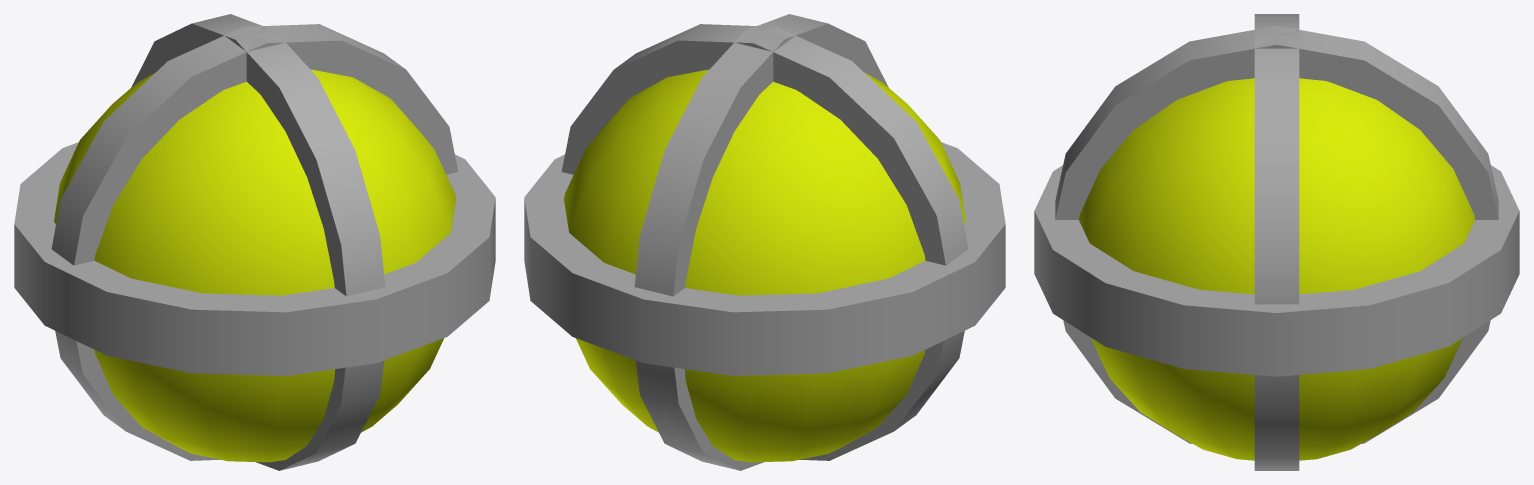
Rendered from SM_WarningLamp.fbx.
The picture shows the model from 3 angles, left to right: view 1: azimuth 30°, elevation 25°; view 2: azimuth 150°, elevation 25°; view 3: azimuth 270°, elevation 25°; orthographic projection.
Parts seen in each view (by area): view 1: SM_WarningLamp; view 2: SM_WarningLamp; view 3: SM_WarningLamp.
Boxes of the visible parts, <box> form: SM_WarningLamp: <box>14,14,495,470</box>; SM_WarningLamp: <box>524,14,1005,470</box>; SM_WarningLamp: <box>1034,14,1519,470</box>.
Size of the model in its own units: 65.28 by 61.56 by 65.28.
